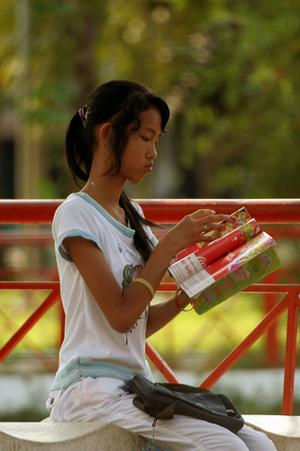person: (49, 78, 277, 451)
